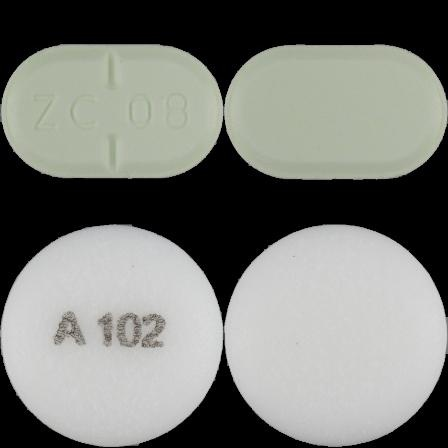68084-249: (0, 0, 224, 224)
